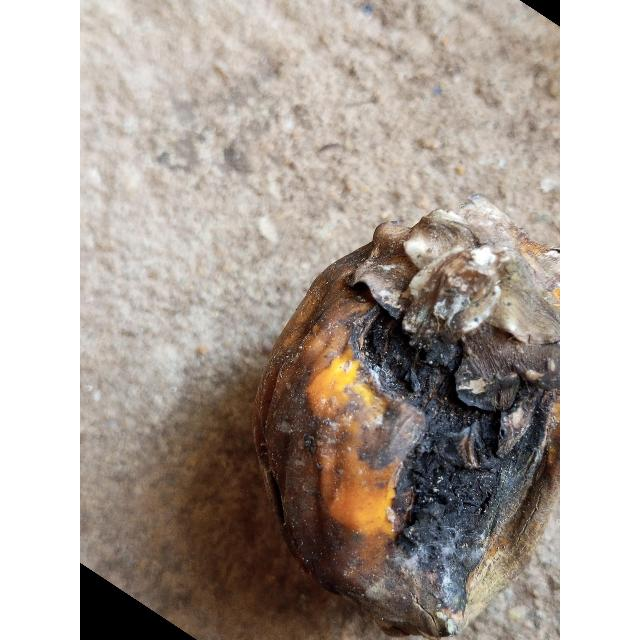damaged: (252, 195, 560, 639)
